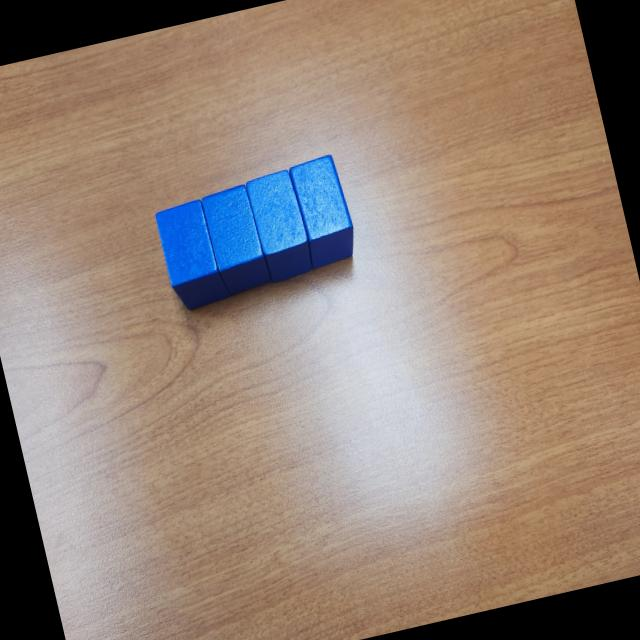blue: (287, 154, 361, 272), (244, 167, 317, 286), (153, 198, 227, 314), (198, 183, 272, 298)
